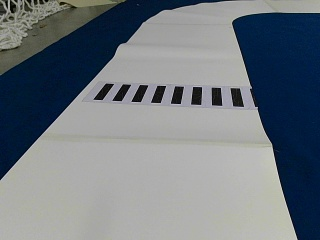crosswalk: (92, 82, 248, 108)
